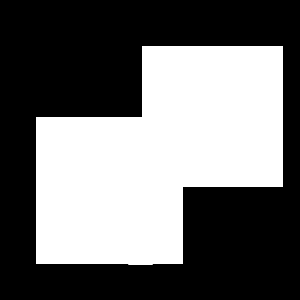circle: (36, 117, 183, 264), (142, 46, 283, 187)
triangle: (128, 240, 153, 265)
